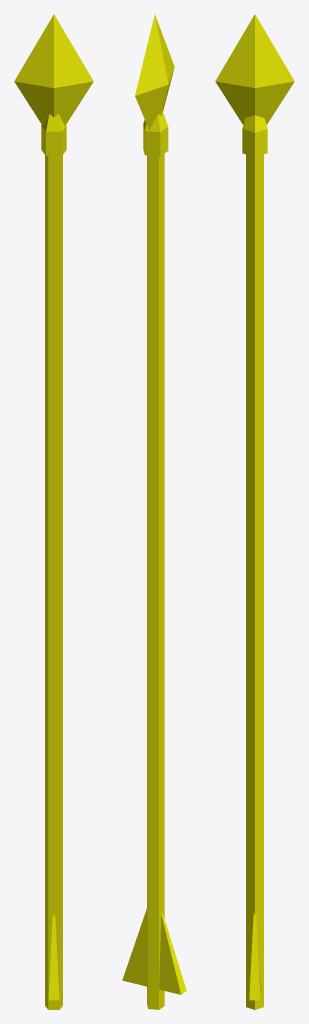
File: _arrow_c_9.glb
3 views of the same model, side by side, from view 1: azimuth 90°, elevation 25°; view 2: azimuth 150°, elevation 25°; view 3: azimuth 270°, elevation 25° (orthographic).
Parts seen in each view (by area): view 1: arrow_c_9; view 2: arrow_c_9; view 3: arrow_c_9.
Boxes of the visible parts, bbox=[...] form: arrow_c_9: bbox=[14, 14, 93, 1009]; arrow_c_9: bbox=[122, 14, 186, 1009]; arrow_c_9: bbox=[215, 14, 294, 1009].
Bounding box in the file's own units: 0.0379 × 0.61 × 0.0444.
Materials: 1 (1 with a texture image).
